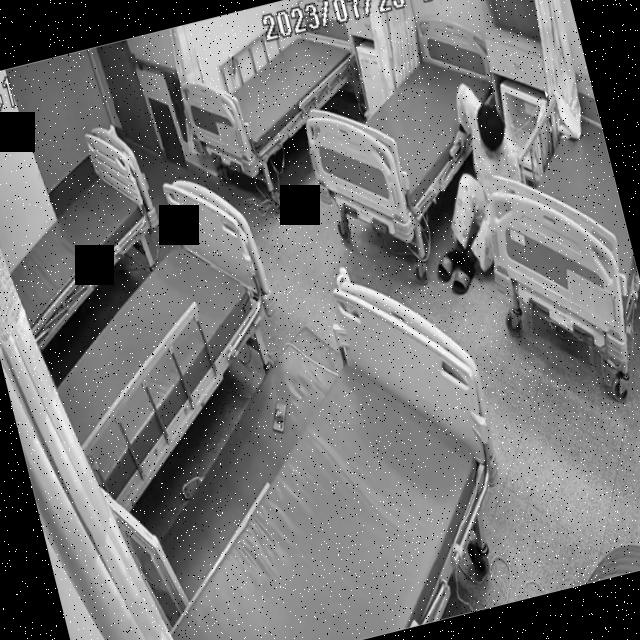bed: (99, 267, 526, 640), (10, 170, 308, 511), (456, 69, 640, 386), (285, 15, 519, 238), (0, 118, 180, 347), (173, 2, 376, 186)
fall: (397, 80, 558, 298)
patient: (397, 76, 559, 294)
